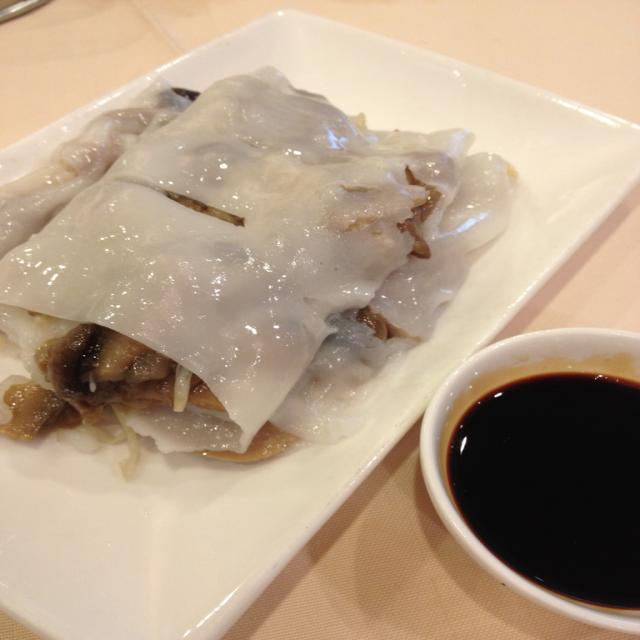Tea: (446, 372, 639, 610)
